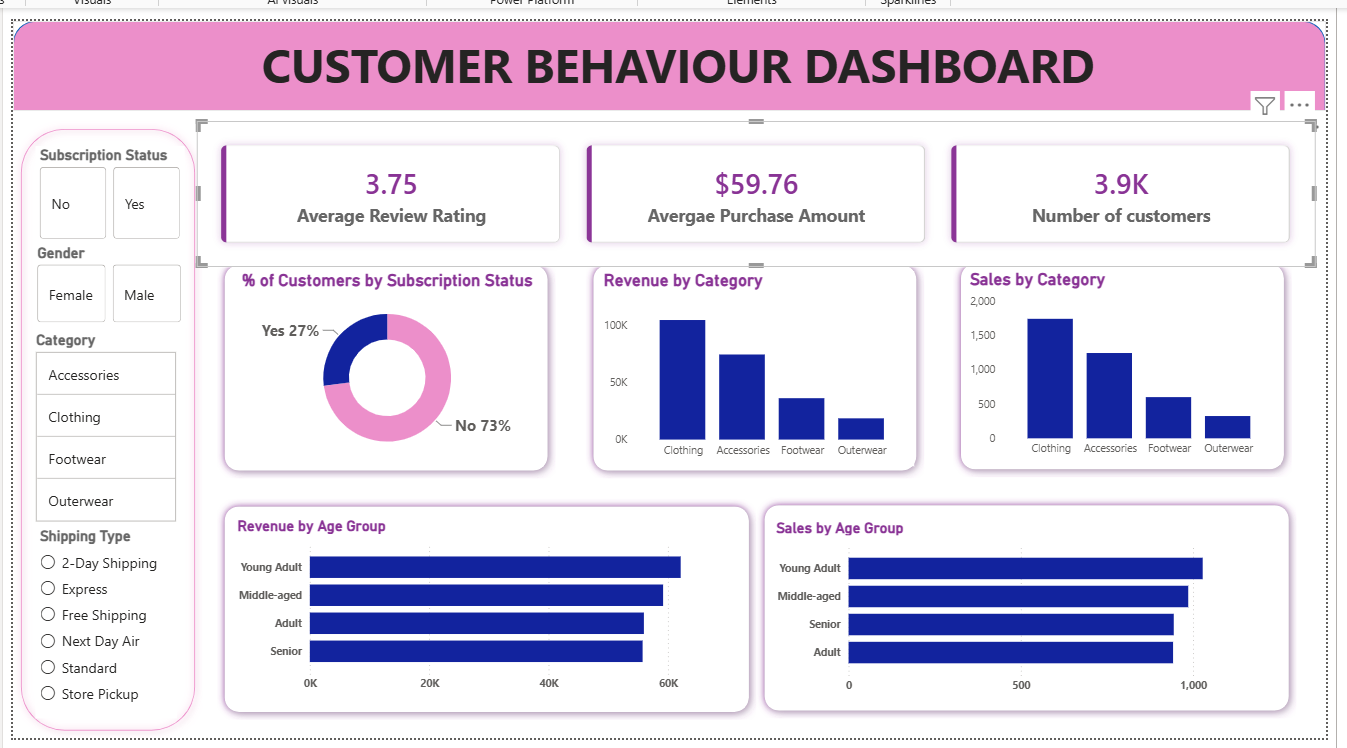

The dashboard page shown, as its layout file describes it:
{"tool":"powerbi","page":{"name":"Page 1","canvas":[1500,820],"ordinal":0},"visuals":[{"type":"cardVisual","fields":{"Data":["public customer.Average Review Rating","public customer.Avergae Purchase Amount","public customer.Number of customers"]},"box":[210,114.3,1278.6,167.1],"z":0},{"type":"shape","box":[0,0,1500,102.9],"z":1000},{"type":"textbox","box":[20,8.6,1480,82.9],"z":2000},{"type":"shape","box":[653.6,270,387.1,252.9],"z":3000},{"type":"shape","box":[1074.3,268.6,387.1,252.9],"z":4000},{"type":"shape","box":[232.9,270,387.1,252.9],"z":5000},{"type":"clusteredColumnChart","title":"Revenue by Category","fields":{"Y":["Sum(public customer.purchased_amount)"],"Category":["public customer.category"]},"box":[670,285.7,360,222.9],"z":6000},{"type":"donutChart","title":"% of Customers by Subscription Status","fields":{"Category":["public customer.subscription_status"],"Y":["CountNonNull(public customer.customer_id)"]},"box":[250,285.7,355.7,222.9],"z":7000},{"type":"clusteredColumnChart","title":"Sales by Category","fields":{"Y":["CountNonNull(public customer.purchased_amount)"],"Category":["public customer.category"]},"box":[1088.6,284.3,360,222.9],"z":8000},{"type":"shape","box":[0,114.3,217.1,705.7],"z":9000},{"type":"advancedSlicerVisual","fields":{"Values":["public customer.subscription_status"]},"box":[25.7,142.9,170,111.4],"z":10000},{"type":"advancedSlicerVisual","fields":{"Values":["public customer.gender"]},"box":[22.9,254.3,175.7,95.7],"z":11000},{"type":"advancedSlicerVisual","title":"Category","fields":{"Values":["public customer.category"]},"box":[21.4,354.3,170,224.3],"z":12000},{"type":"listSlicer","title":"Shipping Type","fields":{"Values":["public customer.shipping_type"]},"box":[25.7,578.6,161.4,218.6],"z":13000},{"type":"shape","box":[232.9,545.7,617.1,252.9],"z":14000},{"type":"shape","box":[850,544.3,617.1,252.9],"z":15000},{"type":"clusteredBarChart","title":"Sales by Age Group","fields":{"Y":["CountNonNull(public customer.customer_id)"],"Category":["public customer.age_group"]},"box":[867.1,568.6,581.4,208.6],"z":16000},{"type":"clusteredBarChart","title":"Revenue by Age Group","fields":{"Y":["Sum(public customer.purchased_amount)"],"Category":["public customer.age_group"]},"box":[251.4,567.1,581.4,208.6],"z":17000}]}

Visuals, with their boxes on the page's 1500x820 design canvas (x1, y1, x2, y2). These are canvas units, not pixel positions in the 1347x748 screenshot, which may show the page scaled, cropped or inside an application window:
cardVisual - public customer.Average Review Rating x public customer.Avergae Purchase Amount: pyautogui.locateOnScreen(210, 114, 1489, 281)
shape: pyautogui.locateOnScreen(0, 0, 1500, 103)
textbox: pyautogui.locateOnScreen(20, 9, 1500, 92)
shape: pyautogui.locateOnScreen(654, 270, 1041, 523)
shape: pyautogui.locateOnScreen(1074, 269, 1461, 522)
shape: pyautogui.locateOnScreen(233, 270, 620, 523)
"Revenue by Category" clusteredColumnChart: pyautogui.locateOnScreen(670, 286, 1030, 509)
"% of Customers by Subscription Status" donutChart: pyautogui.locateOnScreen(250, 286, 606, 509)
"Sales by Category" clusteredColumnChart: pyautogui.locateOnScreen(1089, 284, 1449, 507)
shape: pyautogui.locateOnScreen(0, 114, 217, 820)
advancedSlicerVisual - public customer.subscription_status: pyautogui.locateOnScreen(26, 143, 196, 254)
advancedSlicerVisual - public customer.gender: pyautogui.locateOnScreen(23, 254, 199, 350)
"Category" advancedSlicerVisual: pyautogui.locateOnScreen(21, 354, 191, 579)
"Shipping Type" listSlicer: pyautogui.locateOnScreen(26, 579, 187, 797)
shape: pyautogui.locateOnScreen(233, 546, 850, 799)
shape: pyautogui.locateOnScreen(850, 544, 1467, 797)
"Sales by Age Group" clusteredBarChart: pyautogui.locateOnScreen(867, 569, 1448, 777)
"Revenue by Age Group" clusteredBarChart: pyautogui.locateOnScreen(251, 567, 833, 776)
